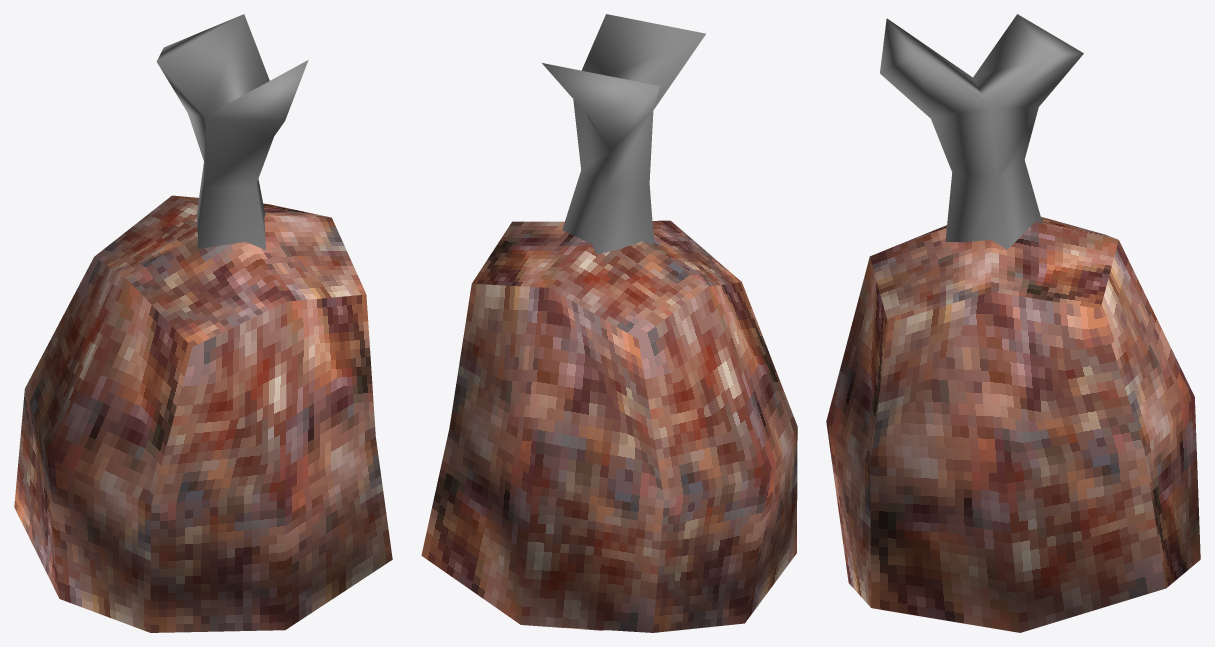
File: CookedLoxMeat.fbx
The picture shows the model from 3 angles, left to right: view 1: azimuth 30°, elevation 25°; view 2: azimuth 150°, elevation 25°; view 3: azimuth 270°, elevation 25°; orthographic projection. The views are drawn at different scales.
Parts seen in each view (by area): view 1: meat; view 2: meat; view 3: meat.
Part boxes in pixels (bbox=[...]): meat: bbox=[14, 14, 392, 632]; meat: bbox=[421, 14, 797, 632]; meat: bbox=[826, 14, 1200, 632].
Size of the model in its own units: 0.4597 by 0.8348 by 0.4722.
Materials: 2 (1 with a texture image).
